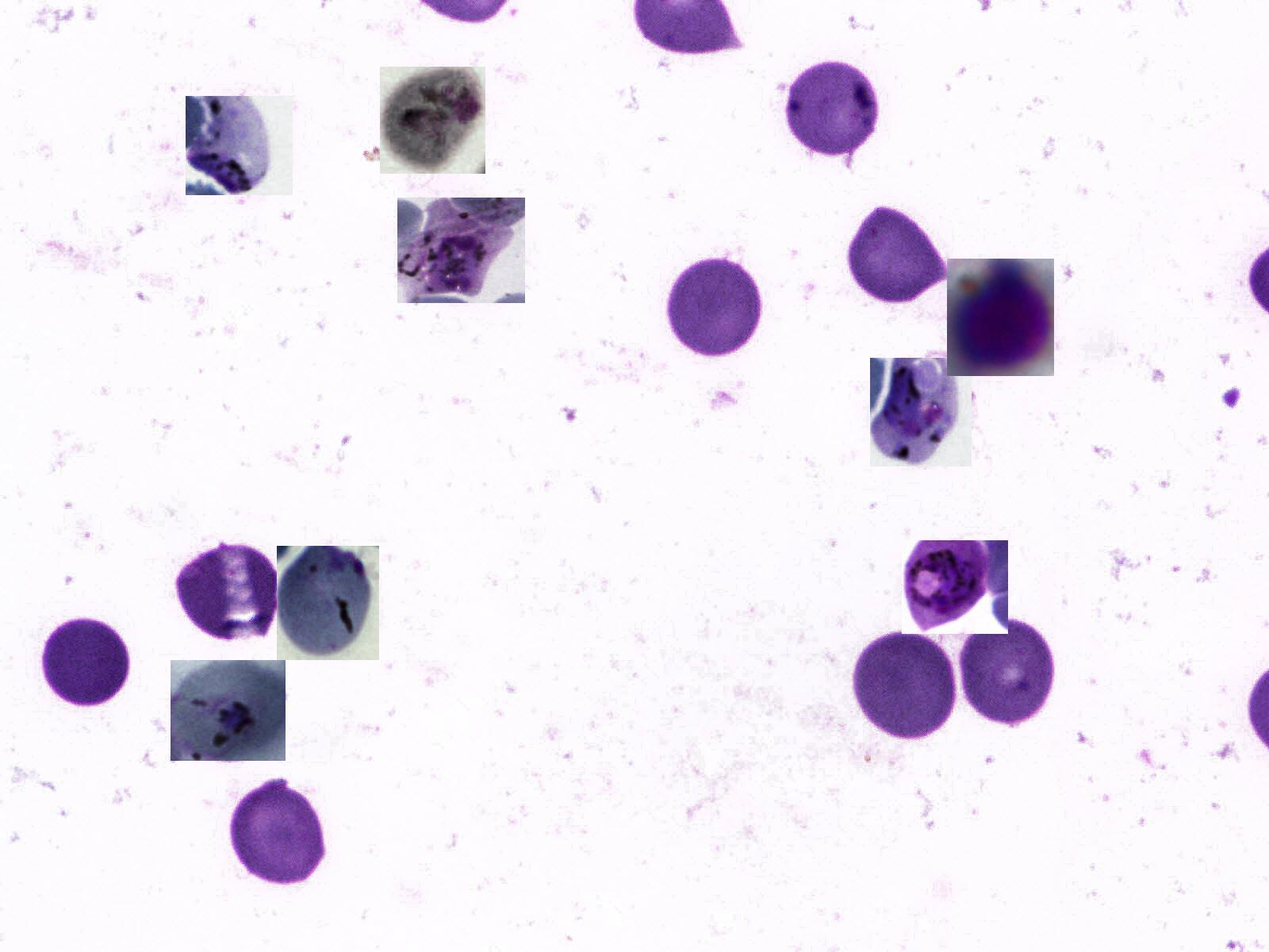Infected: (397, 198, 525, 303), (947, 259, 1054, 376), (278, 546, 380, 660), (171, 660, 286, 761), (380, 67, 485, 174), (870, 358, 972, 466), (186, 96, 293, 195), (902, 540, 1008, 634)
Uninfected: (662, 249, 769, 362), (226, 779, 334, 890), (957, 614, 1057, 733), (844, 203, 954, 311), (852, 627, 958, 735), (783, 56, 885, 162), (172, 544, 278, 642), (36, 612, 136, 712)
